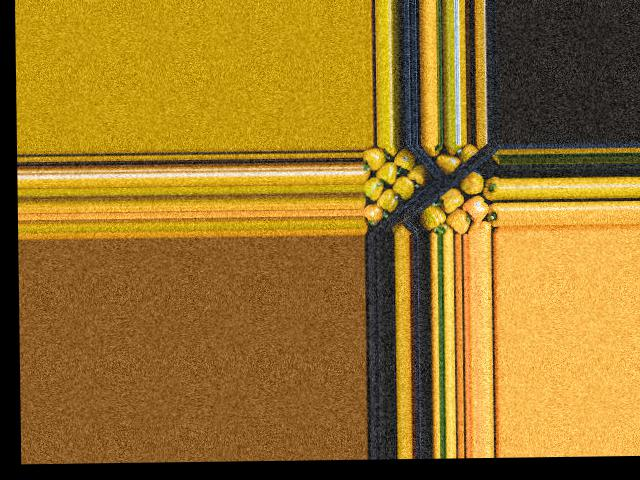bell_pepper: (363, 144, 390, 167)
